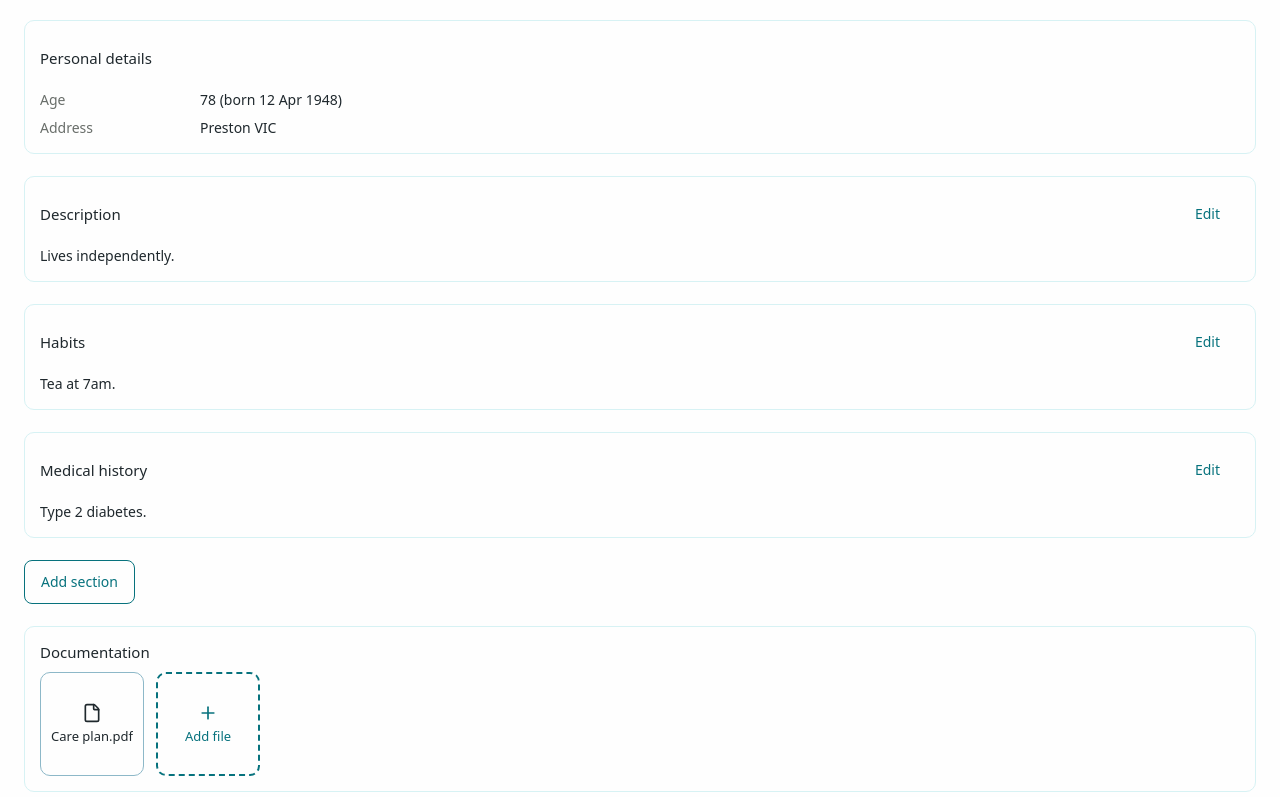
[FAM-09] accessibility › [FAM-09][PRD] the wired screen, while editing and showing an error, has no axe violations
The width and height of the screenshot is (1280, 797).
Step 1. Click the button with aria-label "Edit Habits" → (1207, 342), box [1175,320,1240,364]
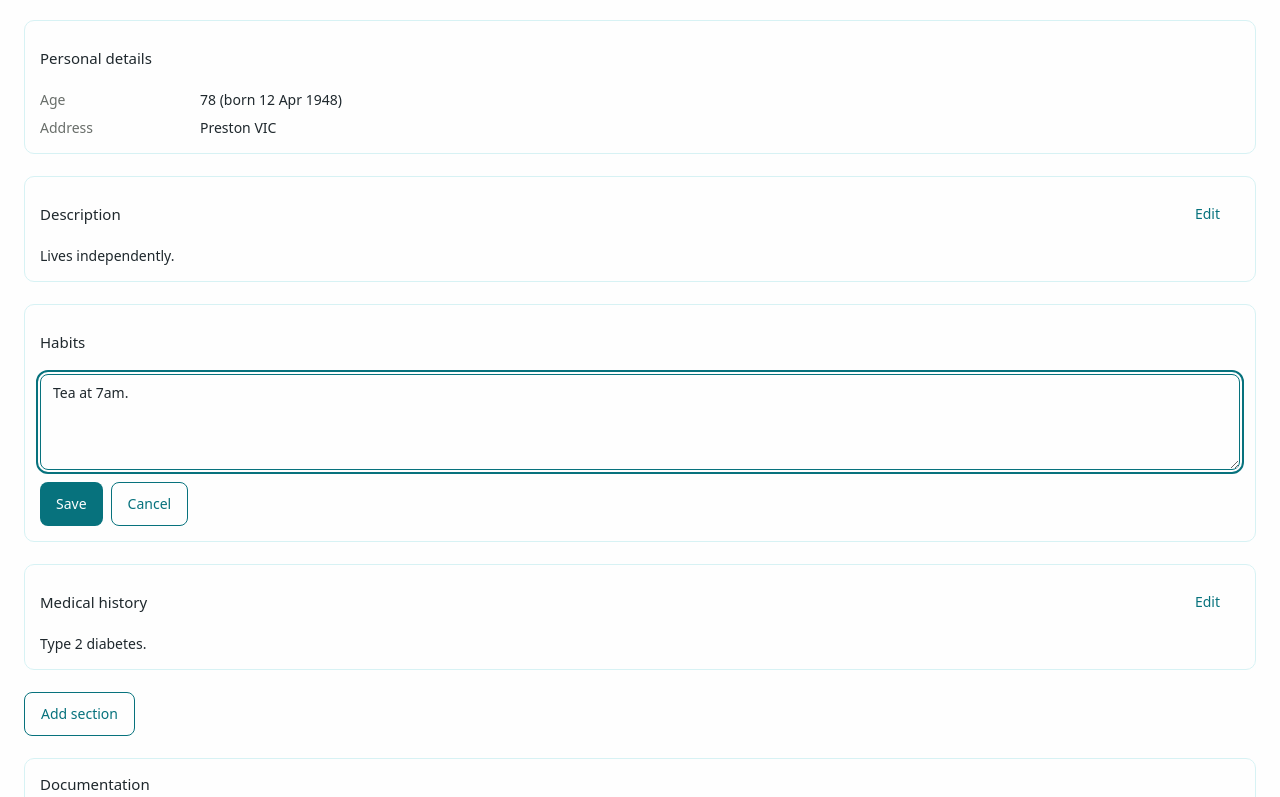
Step 2. Click the button "Save" → (71, 504), box [40,482,103,526]
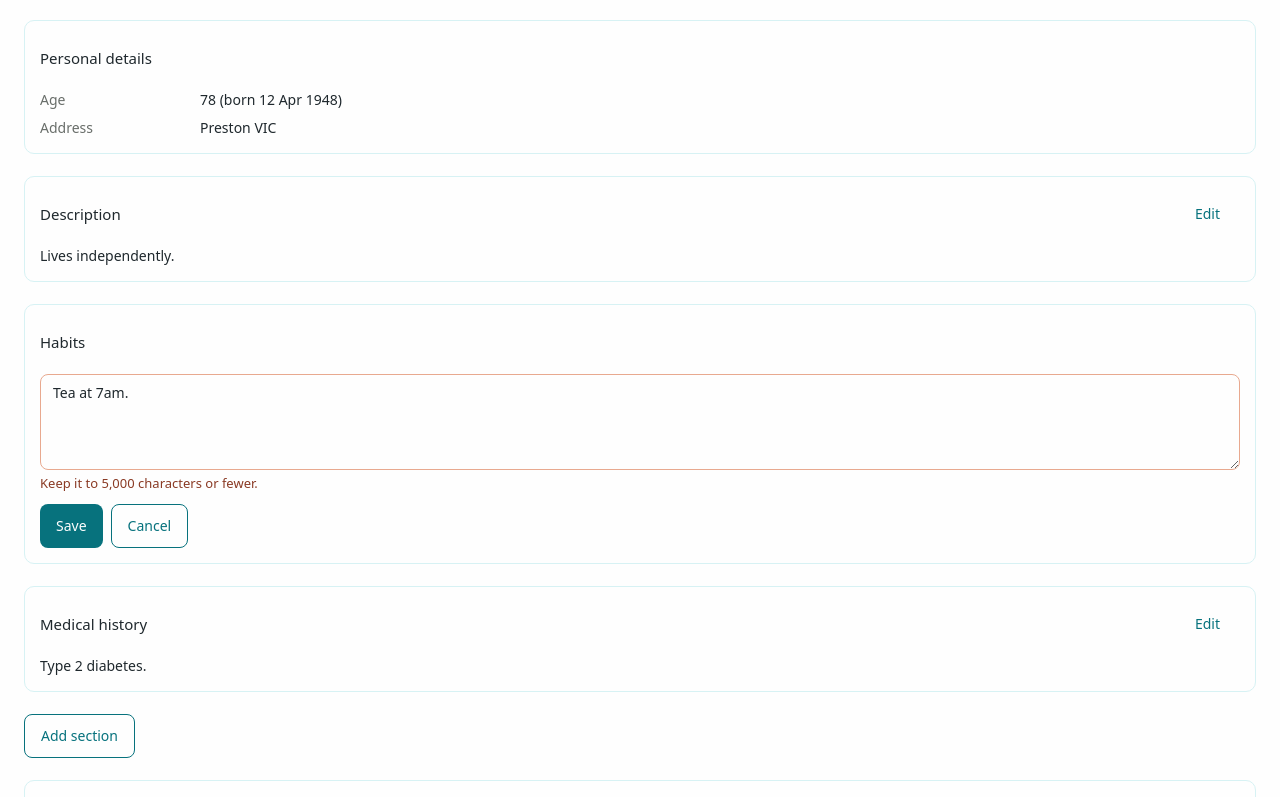
Result: the text "Keep it to 5,000 characters or fewer." is shown at [40,474,258,492]
